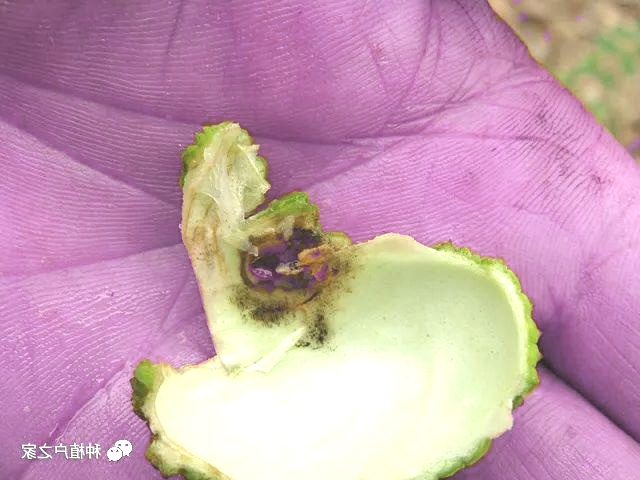Borer: (242, 233, 349, 284)
